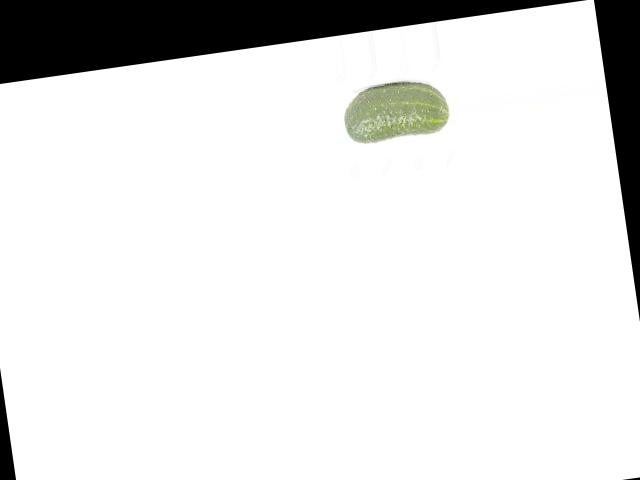cucumber: (339, 75, 451, 144)
